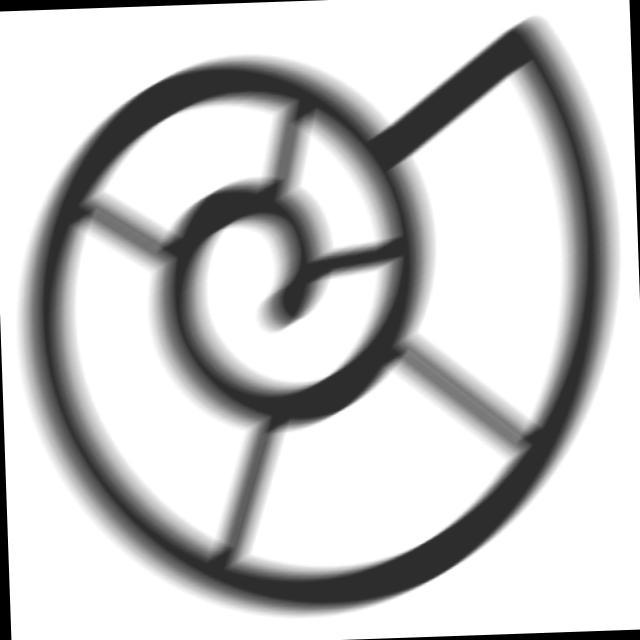fossil: (1, 2, 625, 640)
